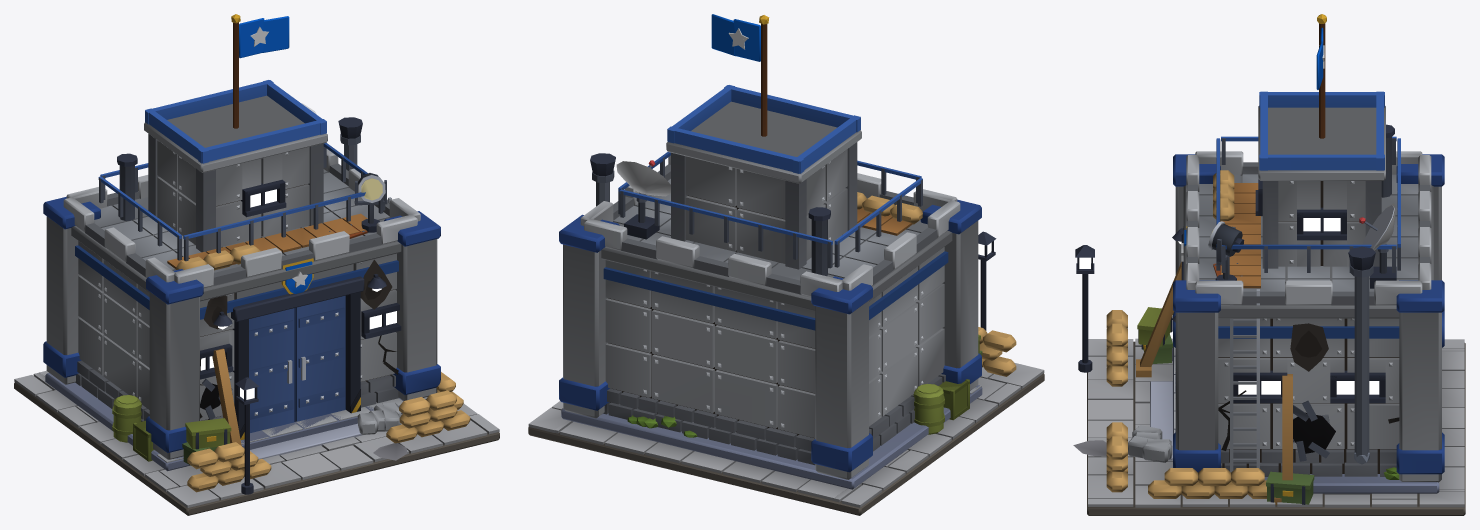
Rendered from b_bunker_2.glb.
3 renders of one model, left to right at view 1: azimuth 30°, elevation 25°; view 2: azimuth 150°, elevation 25°; view 3: azimuth 270°, elevation 25°, orthographic. The views are drawn at different scales.
Parts seen in each view (by area): view 1: body, lv4_extra, dmg2_bruch, sway_flag, dmg1_spuren, sway_scheinwerfer, win_glow; view 2: body, lv4_extra, sway_flag, spin_schuessel; view 3: body, dmg2_bruch, lv4_extra, dmg1_spuren, win_glow, spin_schuessel, sway_scheinwerfer.
Boxes of the visible parts, x1,y1,x2,y2 form: body: [14, 14, 499, 515]; lv4_extra: [112, 377, 456, 494]; dmg2_bruch: [200, 348, 401, 445]; sway_flag: [239, 16, 289, 58]; dmg1_spuren: [200, 259, 398, 418]; sway_scheinwerfer: [354, 173, 387, 205]; win_glow: [200, 189, 396, 370]; body: [528, 15, 1044, 515]; lv4_extra: [913, 231, 1016, 434]; sway_flag: [711, 14, 760, 61]; spin_schuessel: [616, 160, 670, 202]; body: [1073, 14, 1465, 515]; dmg2_bruch: [1128, 262, 1335, 504]; lv4_extra: [1075, 245, 1314, 504]; dmg1_spuren: [1218, 323, 1399, 450]; win_glow: [1238, 218, 1379, 394]; spin_schuessel: [1359, 203, 1396, 252]; sway_scheinwerfer: [1208, 221, 1244, 265].
Size of the model in its own units: 7.41 by 8.7 by 7.38.
